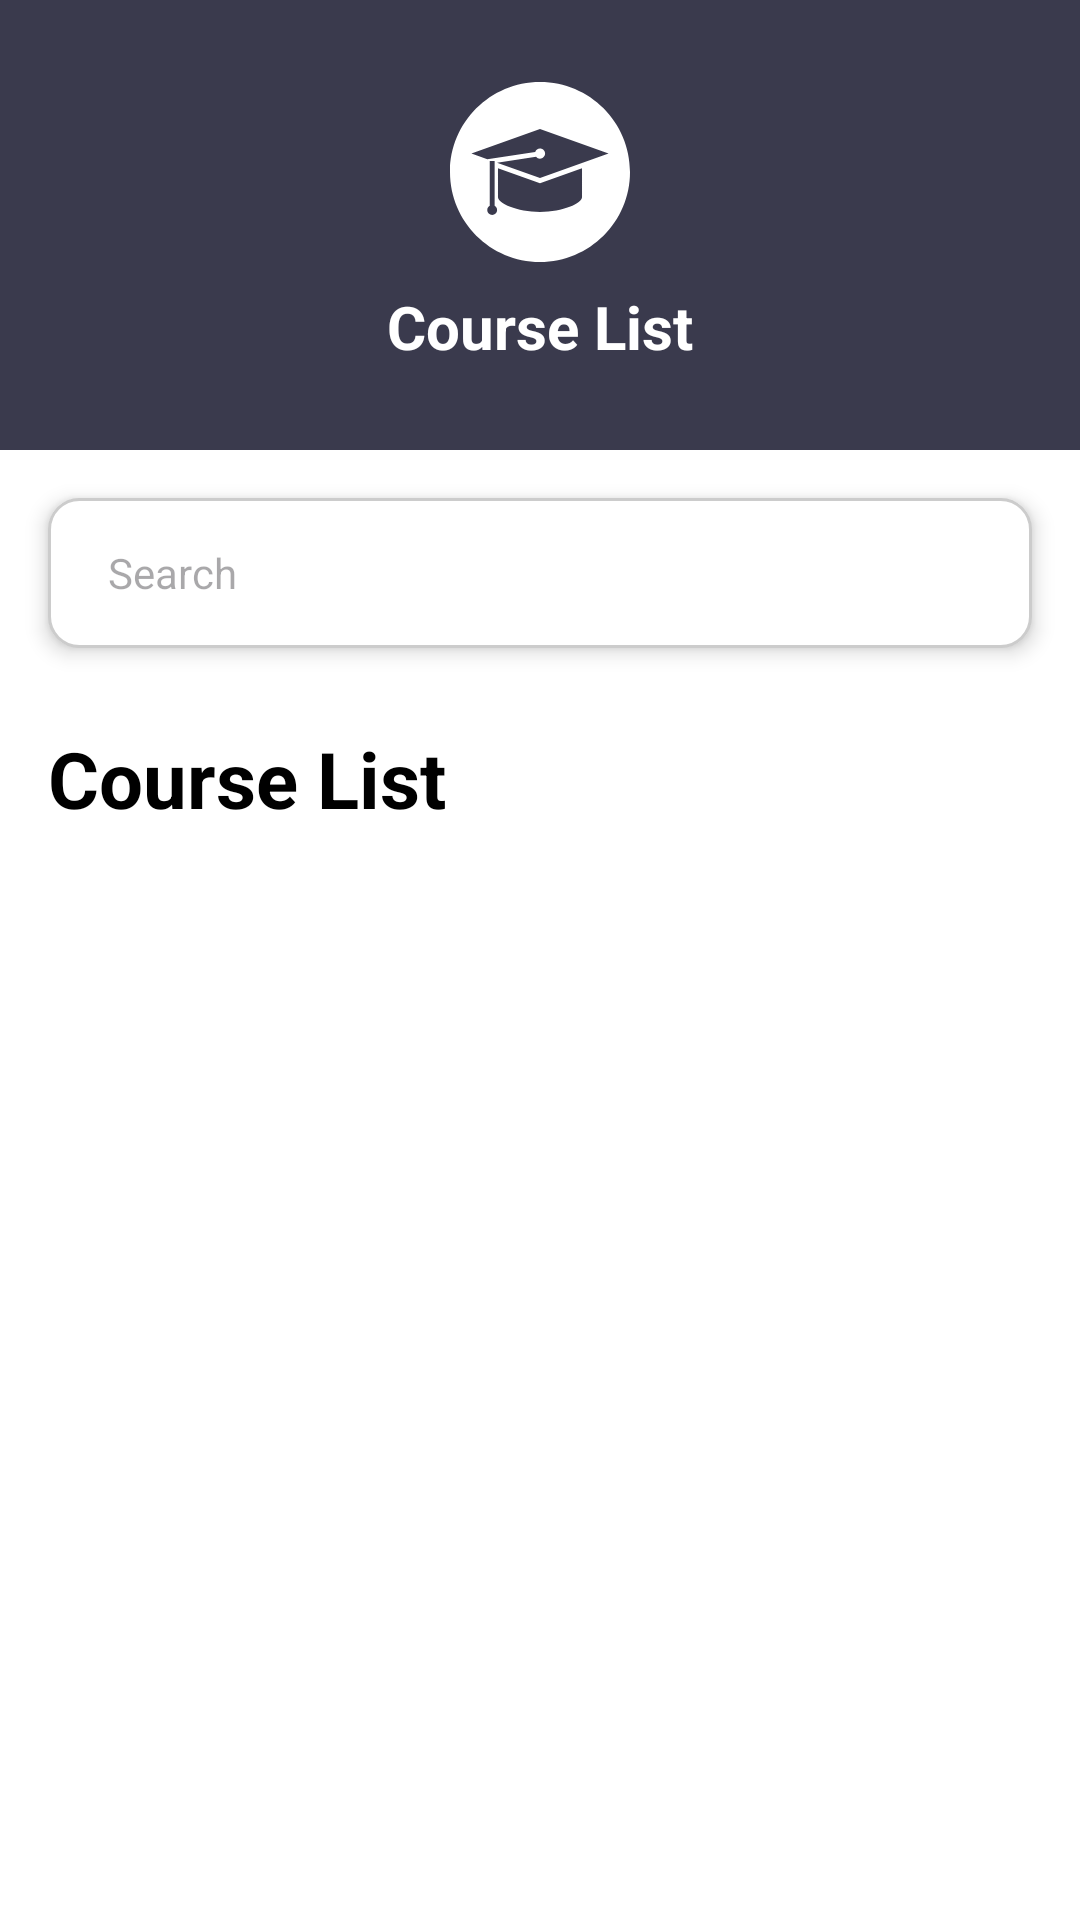

Locate icon controls on the screen. Image size 1080x1920, boxes as (x1, y1, x2, y2).
headergraduation: (450, 82, 630, 262)
